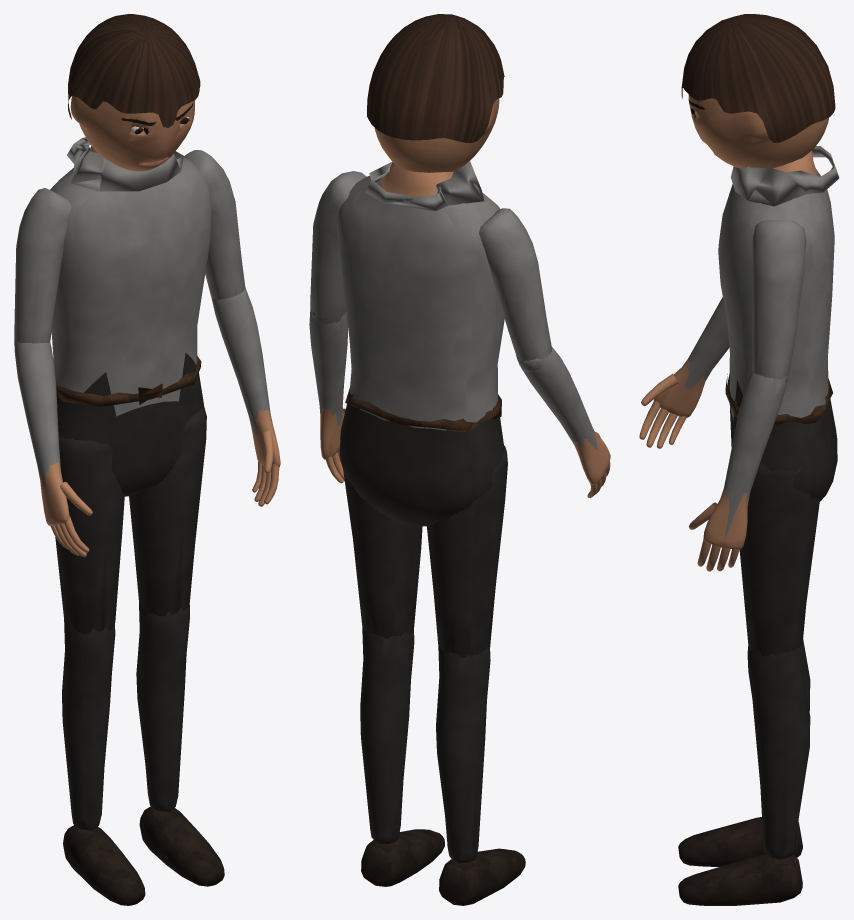
File: persona_nino_c_medio.obj
The picture shows the model from 3 angles, left to right: view 1: azimuth 30°, elevation 25°; view 2: azimuth 150°, elevation 25°; view 3: azimuth 270°, elevation 25°; orthographic projection.
Parts seen in each view (by area): view 1: Torso, PiernaIzq, PiernaDer, Pelo, MusloDer, MusloIzq, AntebrazoDer, BrazoDer, AntebrazoIzq, Cabeza, BrazoIzq, Cuello (+1 smaller); view 2: Torso, Pelo, PiernaDer, PiernaIzq, MusloDer, MusloIzq, BrazoDer, AntebrazoDer, BrazoIzq, AntebrazoIzq, Cabeza, Cuello (+1 smaller); view 3: Torso, PiernaIzq, Pelo, MusloIzq, BrazoIzq, AntebrazoIzq, Cabeza, AntebrazoDer, PiernaDer, Cuello, Cinturon.
Part boxes in pixels (x1=…): Torso: x1=50, y1=145, x2=211, y2=496; PiernaIzq: x1=136, y1=601, x2=224, y2=886; PiernaDer: x1=62, y1=620, x2=145, y2=905; Pelo: x1=68, y1=14, x2=200, y2=127; MusloDer: x1=55, y1=436, x2=124, y2=634; MusloIzq: x1=129, y1=406, x2=206, y2=616; AntebrazoDer: x1=14, y1=339, x2=92, y2=557; BrazoDer: x1=14, y1=188, x2=71, y2=343; AntebrazoIzq: x1=212, y1=287, x2=280, y2=506; Cabeza: x1=70, y1=95, x2=195, y2=171; BrazoIzq: x1=184, y1=150, x2=245, y2=299; Cuello: x1=67, y1=137, x2=183, y2=191; Torso: x1=337, y1=162, x2=504, y2=526; Pelo: x1=367, y1=14, x2=504, y2=142; PiernaDer: x1=436, y1=645, x2=525, y2=905; PiernaIzq: x1=360, y1=627, x2=444, y2=886; MusloDer: x1=427, y1=445, x2=507, y2=657; MusloIzq: x1=343, y1=469, x2=422, y2=638; BrazoDer: x1=479, y1=208, x2=551, y2=372; AntebrazoDer: x1=516, y1=347, x2=610, y2=497; BrazoIzq: x1=310, y1=171, x2=366, y2=324; AntebrazoIzq: x1=309, y1=308, x2=347, y2=483; Cabeza: x1=374, y1=98, x2=499, y2=172; Cuello: x1=365, y1=161, x2=484, y2=211; Torso: x1=718, y1=150, x2=837, y2=501; PiernaIzq: x1=678, y1=641, x2=810, y2=905; Pelo: x1=681, y1=14, x2=835, y2=142; MusloIzq: x1=739, y1=463, x2=819, y2=656; BrazoIzq: x1=752, y1=220, x2=806, y2=383; AntebrazoIzq: x1=688, y1=370, x2=788, y2=571; Cabeza: x1=688, y1=95, x2=829, y2=169; AntebrazoDer: x1=639, y1=297, x2=729, y2=448; PiernaDer: x1=678, y1=639, x2=810, y2=866; Cuello: x1=730, y1=146, x2=839, y2=206; Cinturon: x1=725, y1=374, x2=832, y2=426.
Bounding box in the file's own units: 0.3636 × 1.19 × 0.2504.
12 materials, 12 textured.
